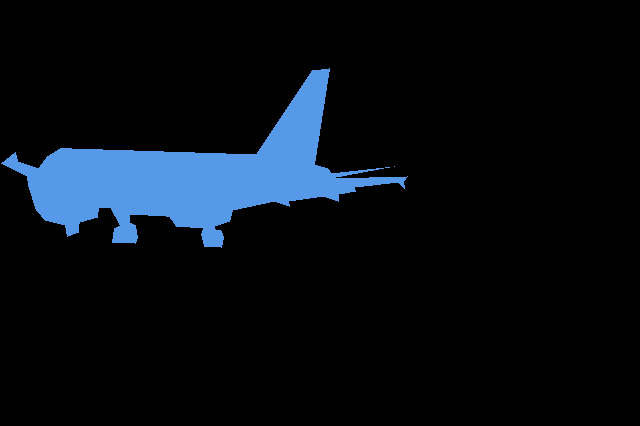Airplane: (1, 68, 407, 247)
